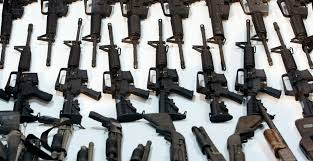Arma Real: (38, 16, 134, 112)
